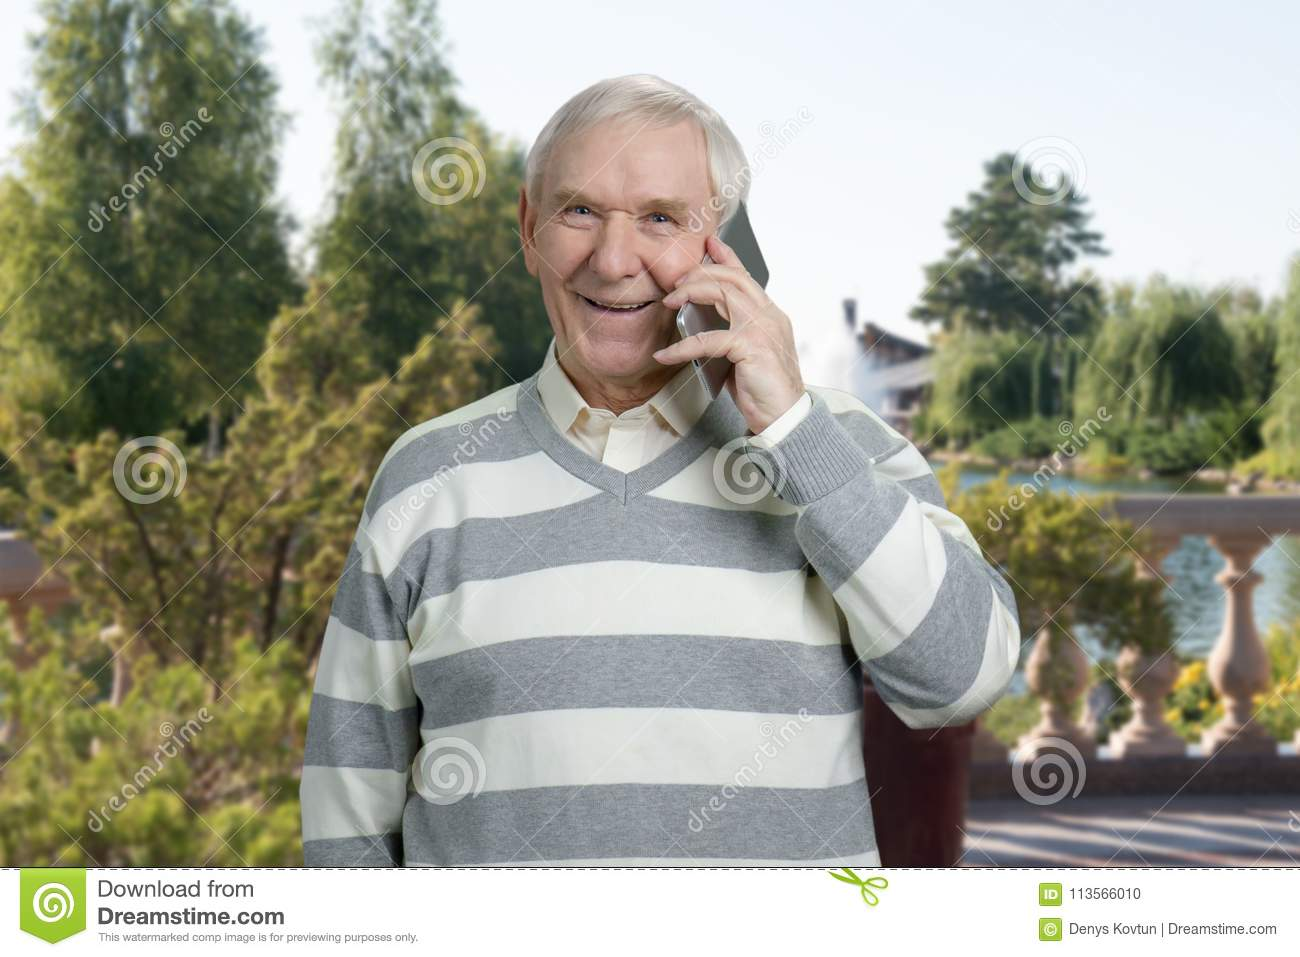phone: (677, 200, 770, 403)
talk: (536, 169, 806, 439)
